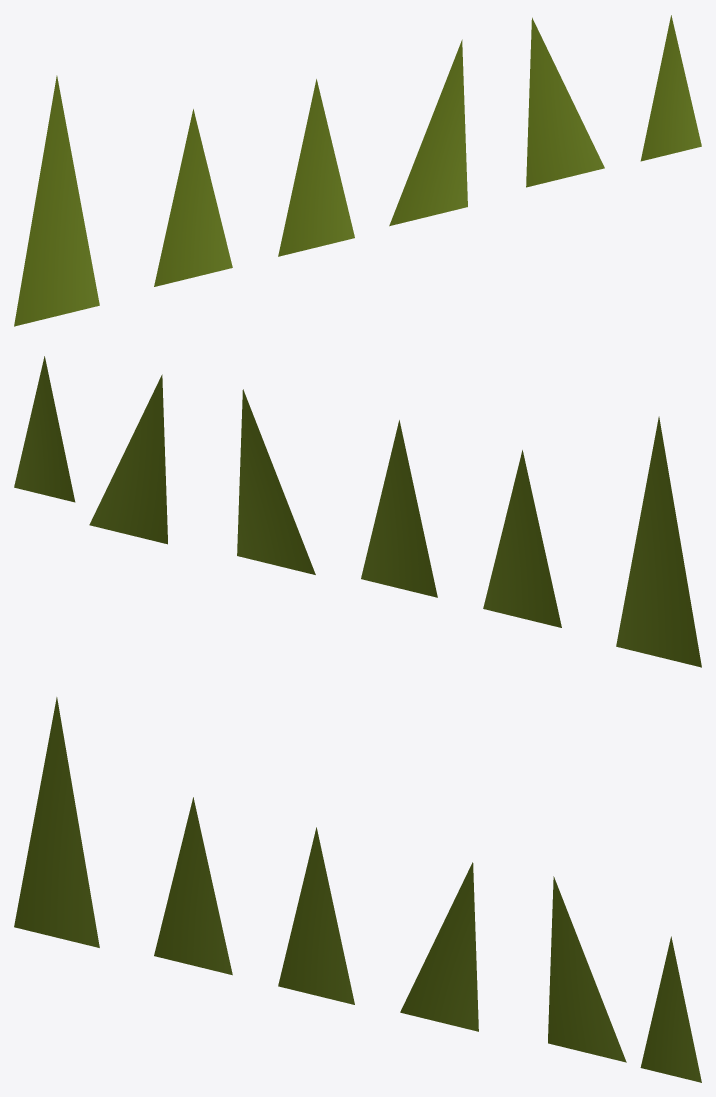
Rendered from grass.glb.
3 renders of one model, top to bottom at view 1: azimuth 30°, elevation 25°; view 2: azimuth 150°, elevation 25°; view 3: azimuth 330°, elevation 25°, orthographic.
Visible parts, largest first — view 1: tallGrass, bentRightGrass, originalGrass, bentLeftGrass, wideGrass, shortGrass; view 2: tallGrass, bentRightGrass, originalGrass, bentLeftGrass, wideGrass, shortGrass; view 3: tallGrass, bentLeftGrass, originalGrass, bentRightGrass, wideGrass, shortGrass.
Part boxes in pixels (box(x1,y1,x2,y2)): tallGrass: box(14, 75, 99, 326); bentRightGrass: box(389, 39, 467, 226); originalGrass: box(154, 109, 232, 286); bentLeftGrass: box(526, 17, 604, 187); wideGrass: box(278, 79, 354, 256); shortGrass: box(640, 15, 701, 161); tallGrass: box(616, 416, 701, 667); bentRightGrass: box(237, 389, 315, 574); originalGrass: box(483, 450, 561, 627); bentLeftGrass: box(89, 374, 167, 544); wideGrass: box(361, 420, 437, 597); shortGrass: box(14, 356, 75, 502); tallGrass: box(14, 697, 99, 947); bentLeftGrass: box(548, 876, 626, 1062); originalGrass: box(154, 797, 232, 975); bentRightGrass: box(400, 862, 478, 1031); wideGrass: box(278, 827, 354, 1004); shortGrass: box(640, 936, 701, 1082).
Size of the model in its own units: 3.07 by 1.03 by 0.0838.
Materials: 2 (2 with a texture image).
